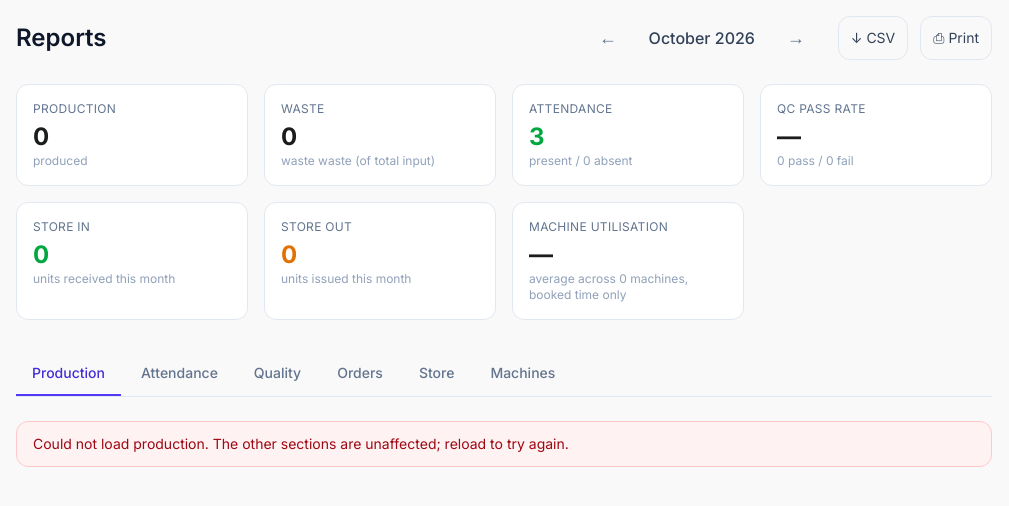
ReportsScreen › shows "Could not load production" on the failed tab while another tab still renders
Expected: the message shows "Could not load production", [16, 421, 992, 467]
Step 1. Click the button "Attendance" → (179, 374), box [125, 352, 234, 396]
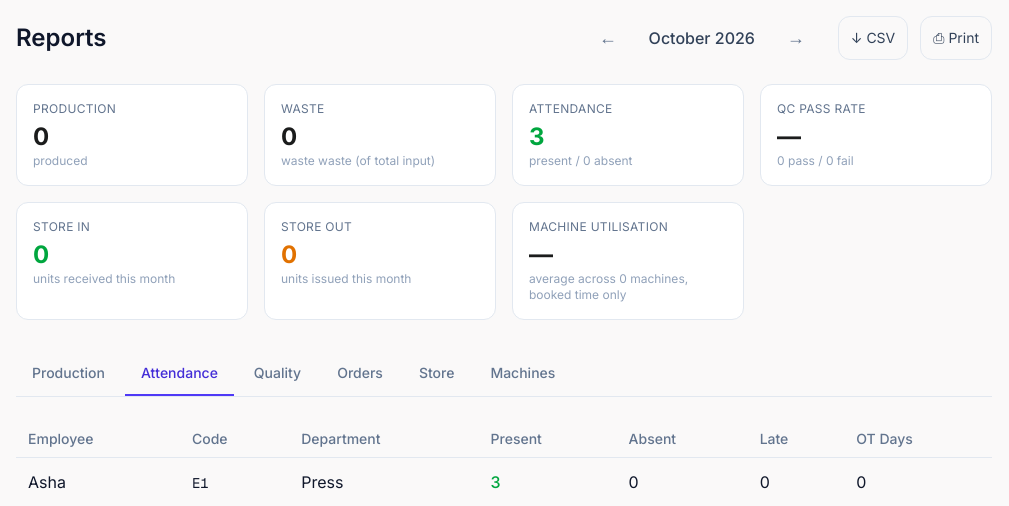
Now the message is gone
